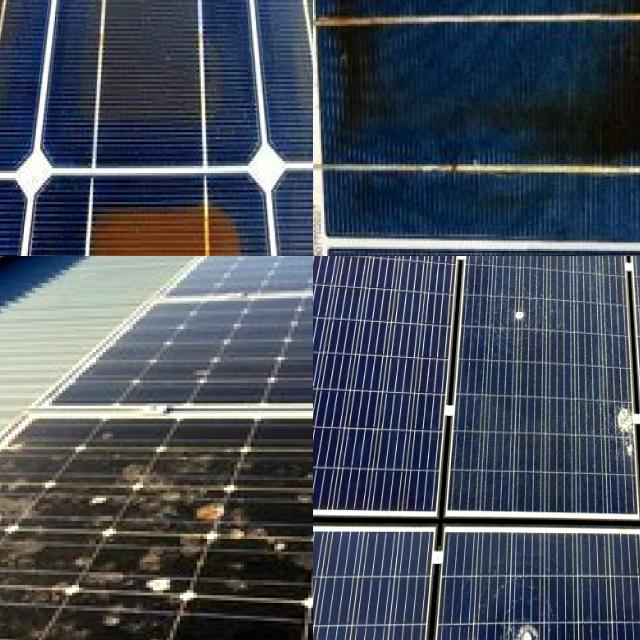bird: (171, 492, 290, 568), (62, 568, 187, 632), (0, 484, 68, 557), (102, 448, 239, 481)
hotspot: (601, 382, 640, 494), (497, 578, 567, 640), (499, 282, 544, 341), (556, 256, 611, 297), (473, 256, 513, 285)
shadow: (320, 0, 640, 190), (78, 0, 235, 134), (68, 154, 259, 256), (0, 0, 75, 137)
